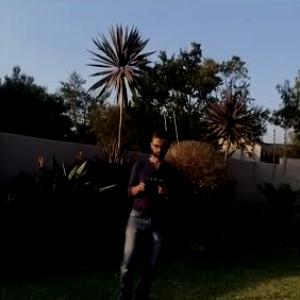follow: (108, 125, 182, 299)
